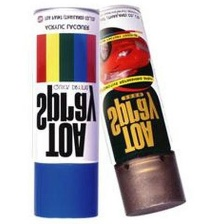aerosol_cans: (79, 1, 188, 221), (24, 2, 105, 221)
